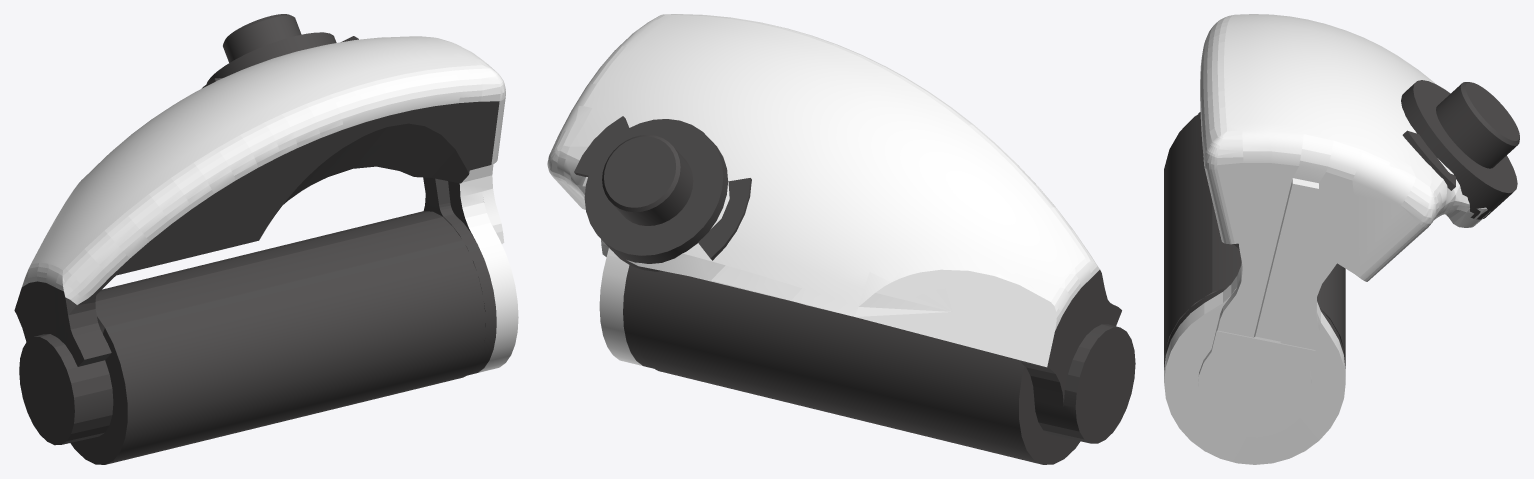
File: RHipYawPitch.dae
The picture shows the model from 3 angles, left to right: view 1: azimuth 30°, elevation 25°; view 2: azimuth 150°, elevation 25°; view 3: azimuth 270°, elevation 25°; orthographic projection. The views are drawn at different scales.
Parts seen in each view (by area): view 1: RHipYawPitch; view 2: RHipYawPitch; view 3: RHipYawPitch.
Boxes of the visible parts, x1,y1,x2,y2 form: RHipYawPitch: [14, 14, 518, 464]; RHipYawPitch: [547, 14, 1135, 464]; RHipYawPitch: [1164, 14, 1519, 464].
Bounding box in the file's own units: 0.828 × 0.5298 × 0.5674.
Materials: 1 (1 with a texture image).
